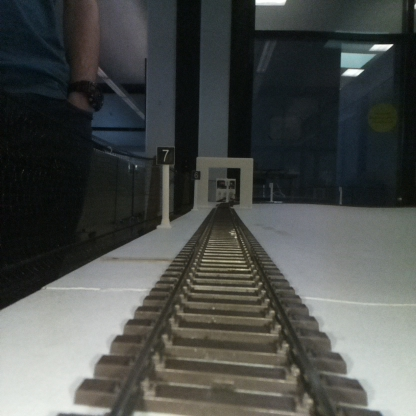black-info-7: (156, 146, 175, 227)
